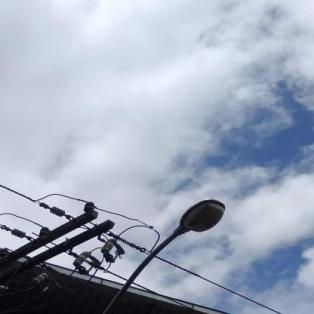Poste: (0, 251, 9, 314)
